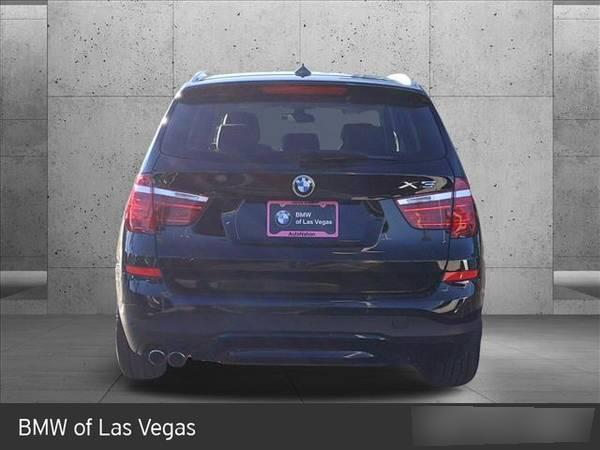Left_Taillight: (123, 170, 215, 233)
Rear_Bumper: (116, 228, 485, 366)
Rear_Windshield: (156, 85, 450, 161)
Right_Taillight: (390, 175, 478, 238)
Tailgate: (134, 147, 462, 292)
